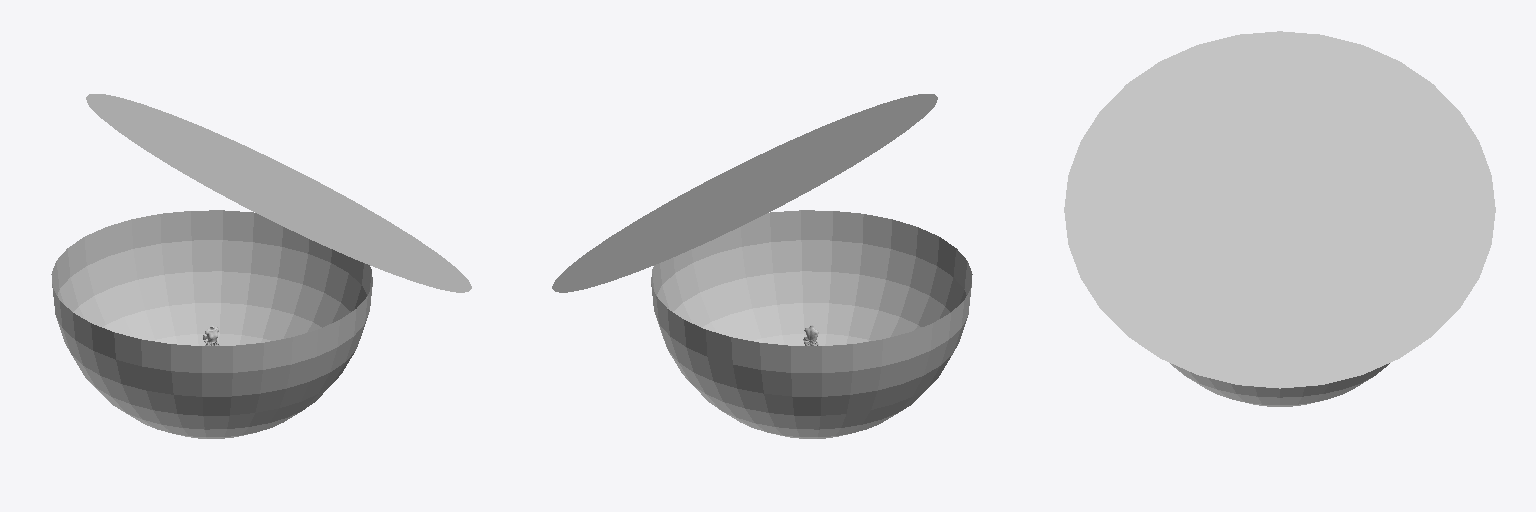
Rendered from dress.obj.
3 renders of one model, left to right at view 1: azimuth 30°, elevation 25°; view 2: azimuth 150°, elevation 25°; view 3: azimuth 270°, elevation 25°, orthographic.
Parts seen in each view (by area): view 1: Sphere, Luz_Sphere.001; view 2: Sphere, Luz_Sphere.001; view 3: Luz_Sphere.001, Sphere.
Part boxes in pixels (x1,y1,x2,y2): Sphere: (51, 210, 372, 438); Luz_Sphere.001: (86, 94, 471, 292); Sphere: (651, 210, 972, 438); Luz_Sphere.001: (552, 94, 937, 292); Luz_Sphere.001: (1064, 31, 1495, 388); Sphere: (1170, 363, 1389, 406).
Size of the model in its own units: 981 by 806 by 1000.